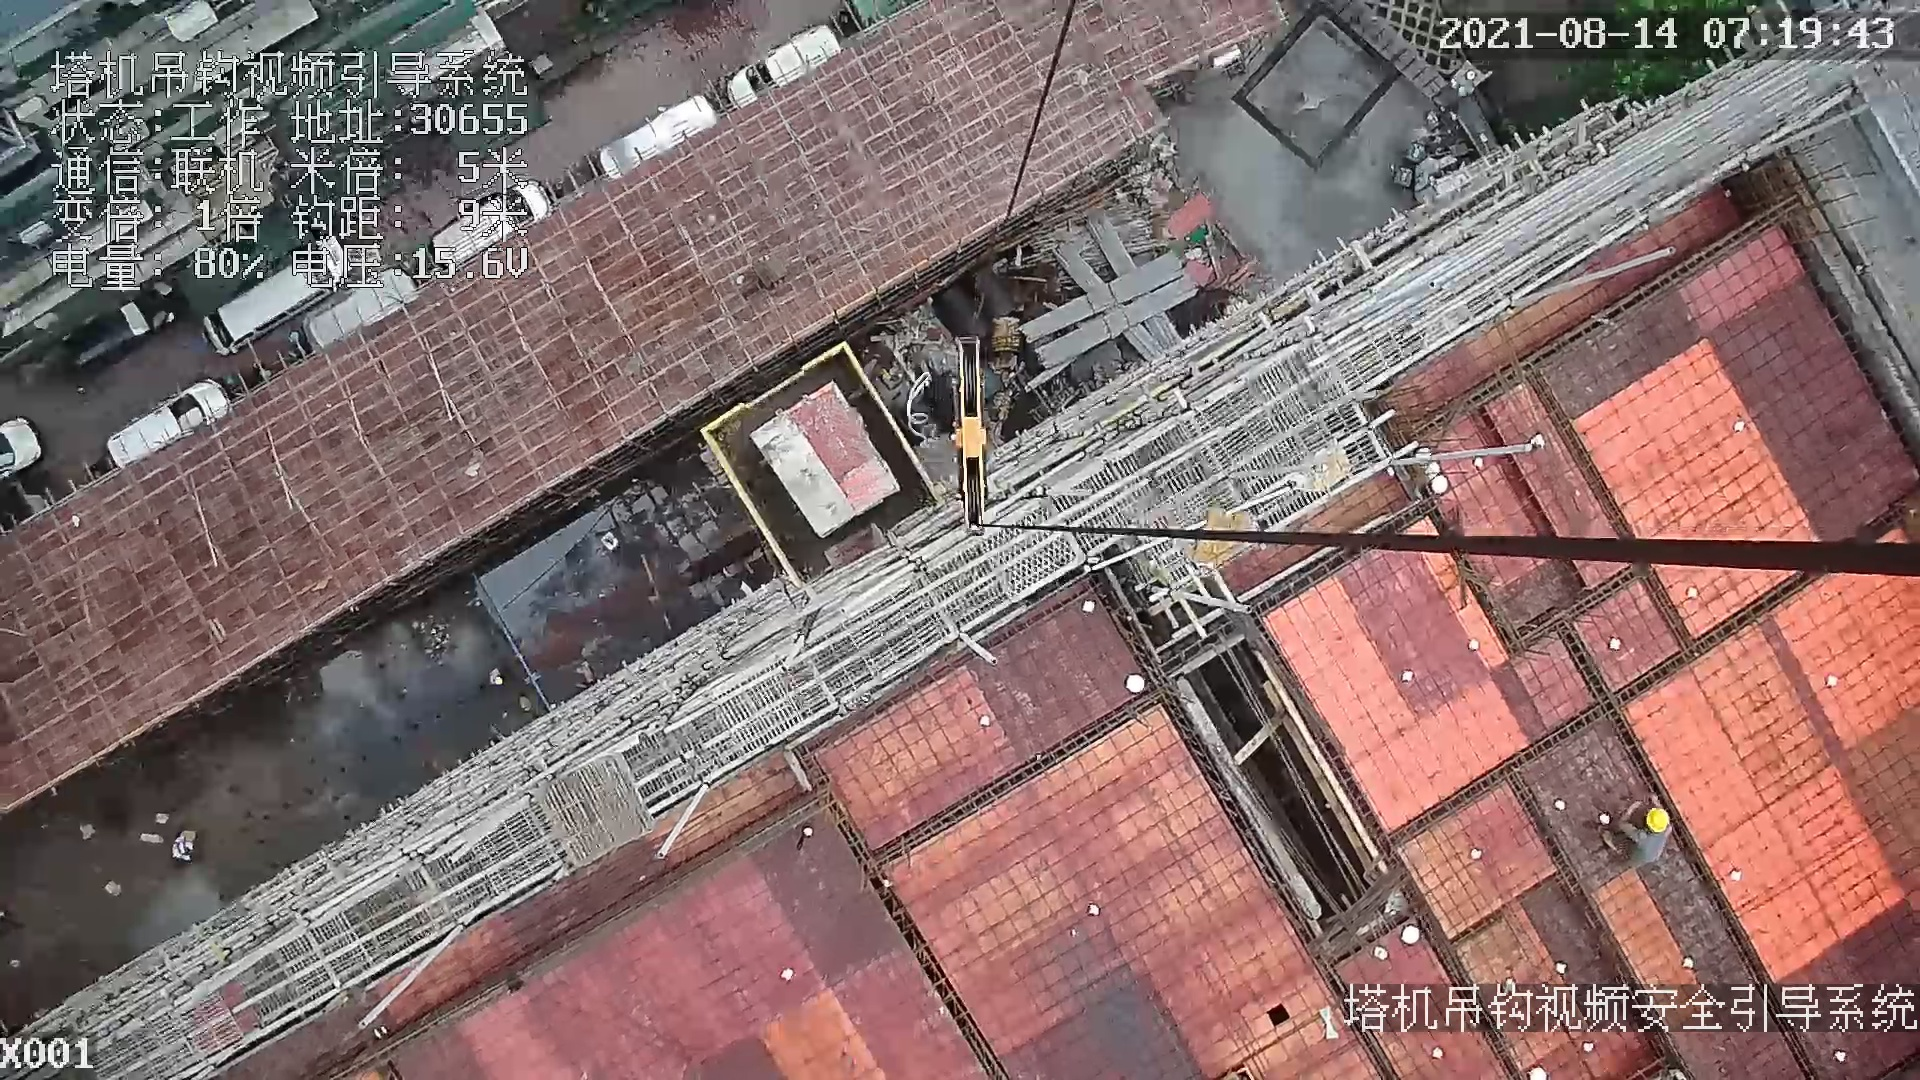helmet: (1649, 806, 1670, 837)
hook: (941, 333, 999, 539)
person: (1601, 796, 1665, 873)
